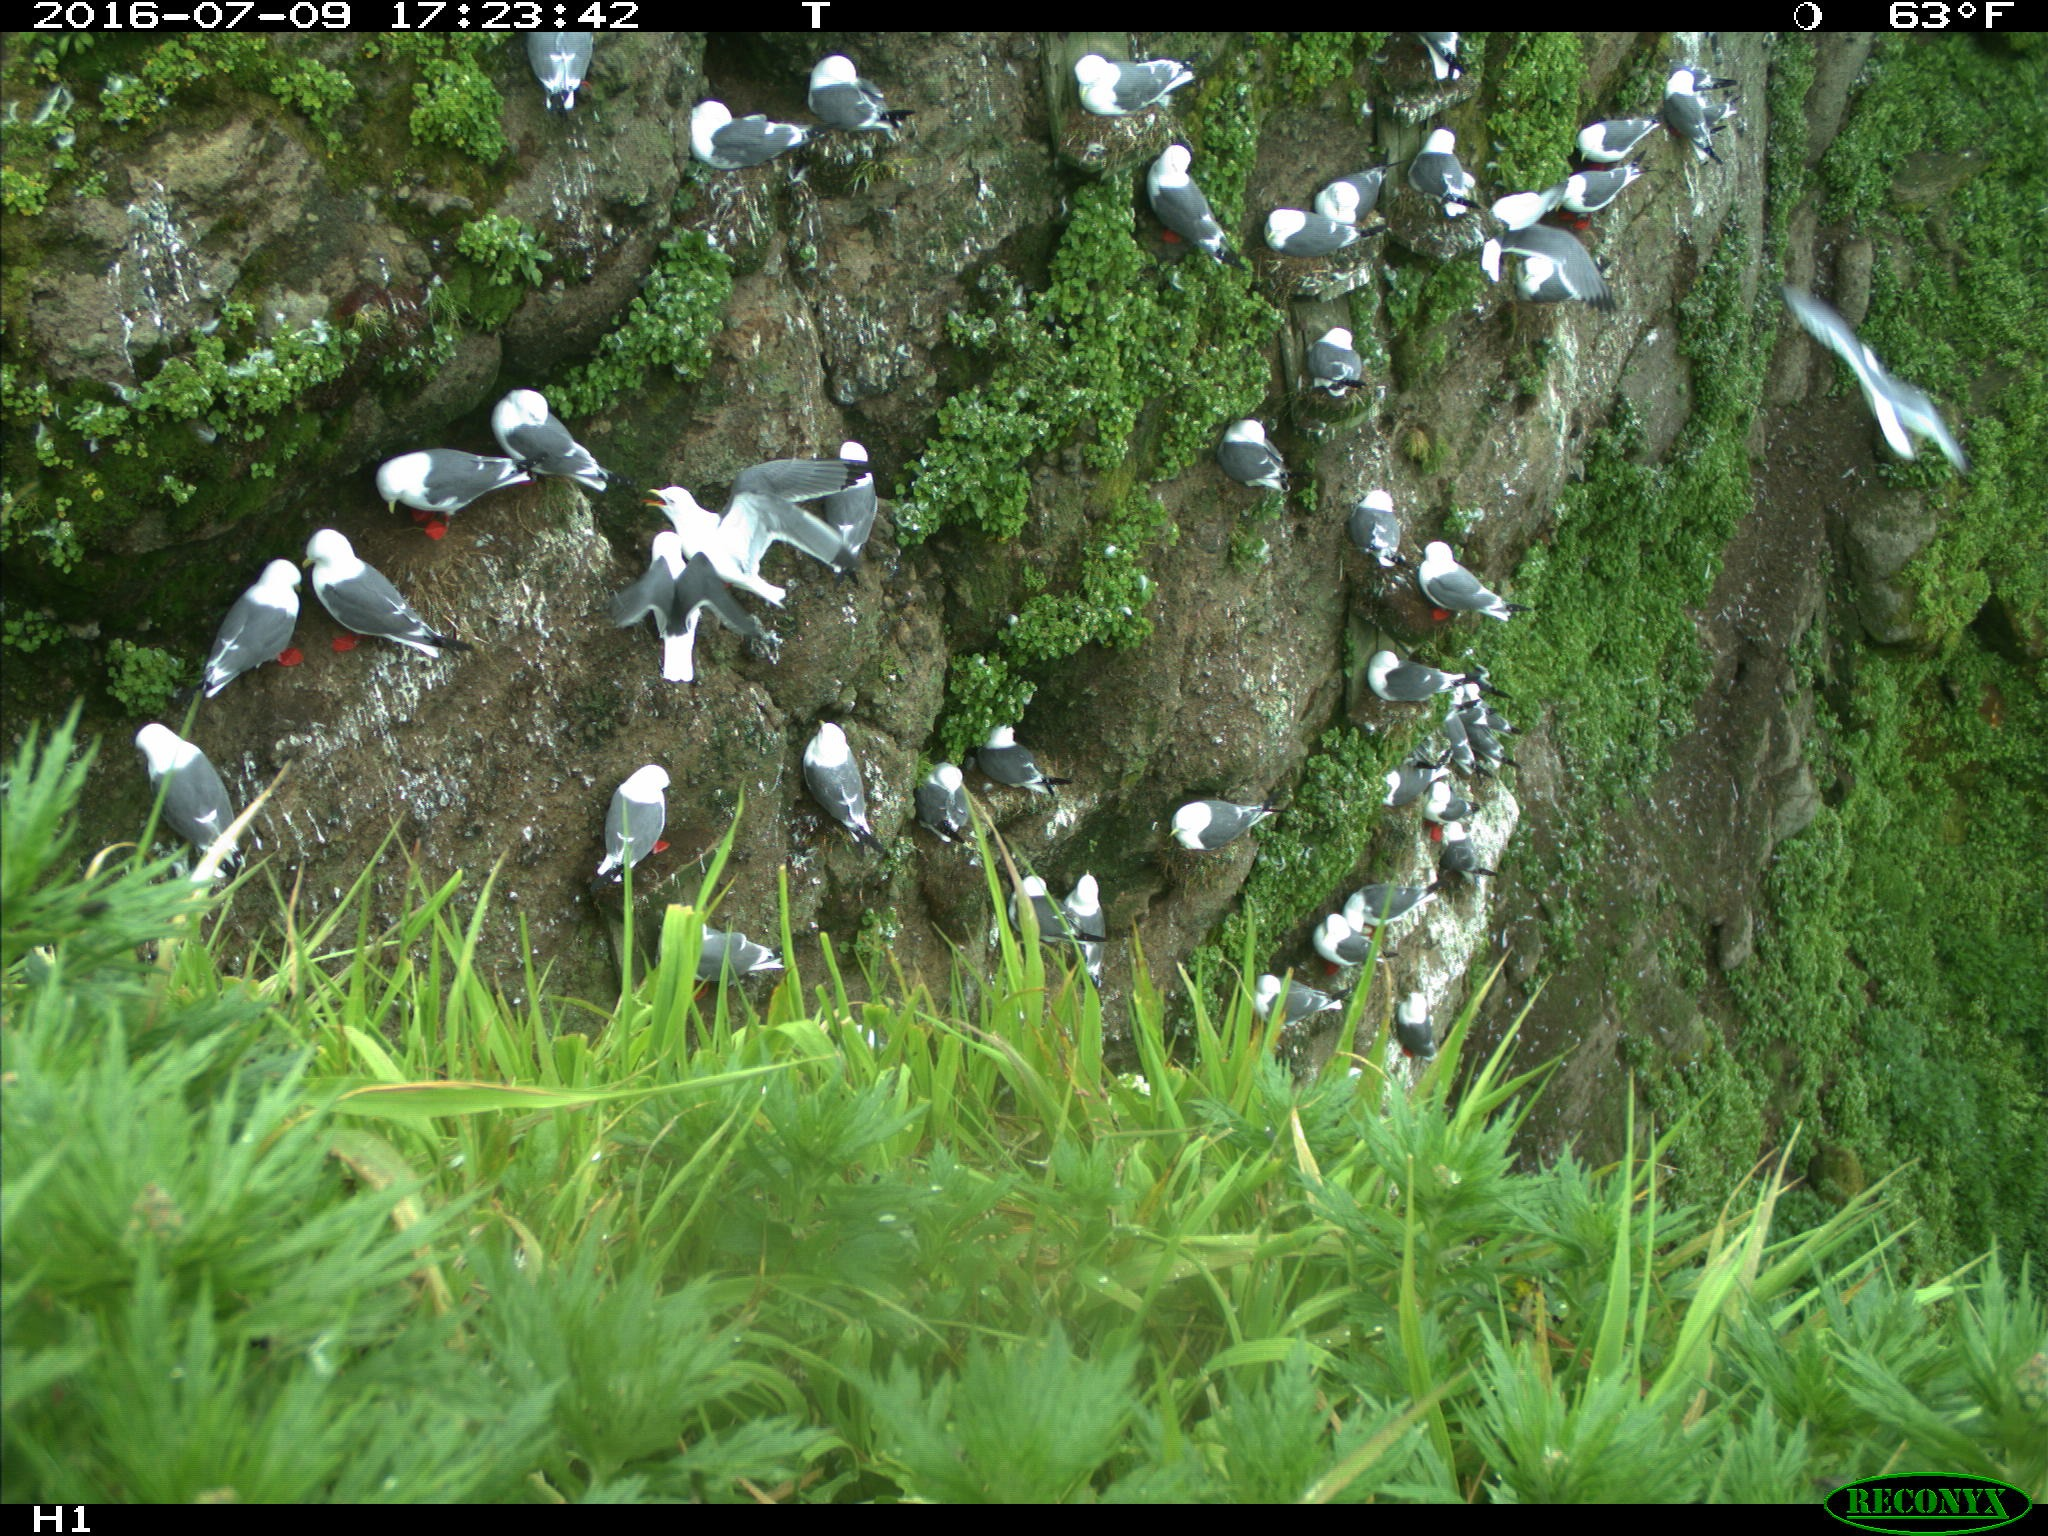Kittiwake: (131, 674, 281, 871), (360, 413, 537, 557), (235, 592, 358, 791), (298, 529, 443, 687), (639, 461, 764, 642), (801, 37, 951, 181), (487, 361, 647, 495), (664, 74, 826, 195), (777, 694, 889, 862), (813, 421, 937, 571), (1130, 137, 1263, 273), (611, 734, 721, 886), (1042, 45, 1201, 144), (1143, 762, 1288, 868), (1355, 629, 1487, 741), (1245, 929, 1334, 1075), (897, 737, 990, 874), (1646, 50, 1746, 171), (1388, 121, 1534, 203), (976, 842, 1072, 963), (1314, 866, 1434, 963), (1408, 532, 1521, 634), (1050, 868, 1129, 1010), (1251, 182, 1358, 287), (1279, 303, 1380, 408), (660, 928, 793, 1004), (1395, 771, 1501, 862), (1287, 907, 1376, 1013), (1492, 242, 1614, 316), (1392, 979, 1479, 1081), (1209, 403, 1293, 507), (1314, 150, 1392, 261), (1546, 148, 1614, 271), (984, 687, 1042, 824), (1329, 461, 1408, 558), (521, 23, 601, 115), (1563, 90, 1646, 177), (1592, 152, 1642, 216)
